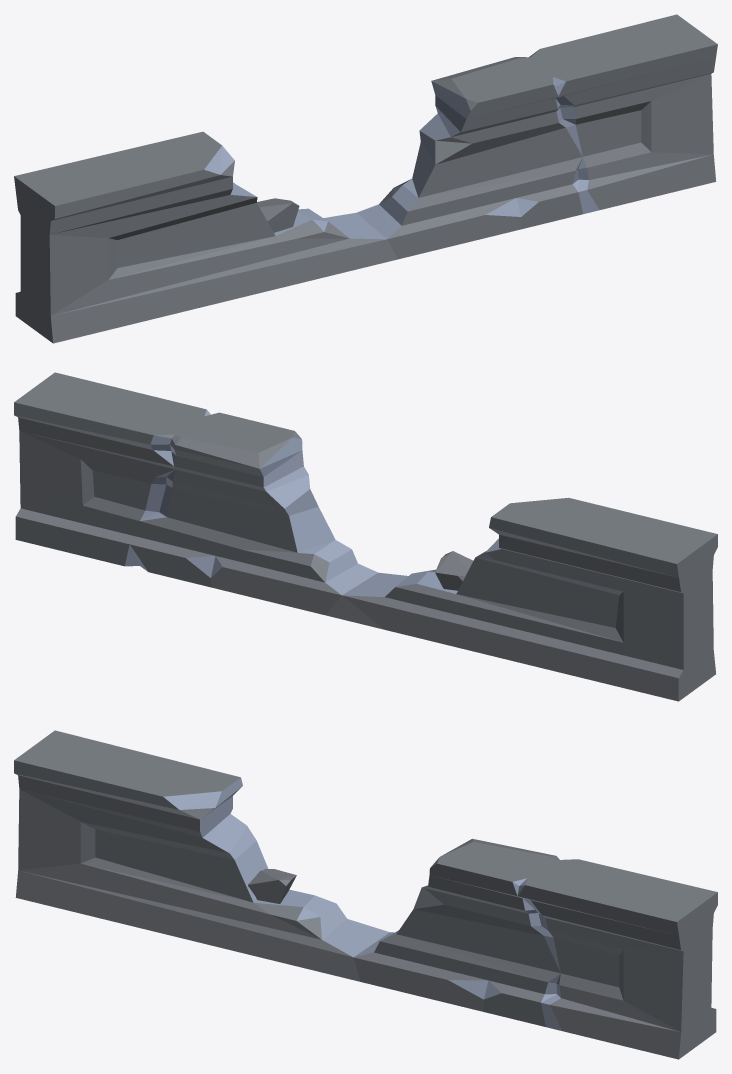
Rendered from Broken_wall_02.FBX.
3 renders of one model, top to bottom at view 1: azimuth 30°, elevation 25°; view 2: azimuth 150°, elevation 25°; view 3: azimuth 330°, elevation 25°, orthographic.
Parts seen in each view (by area): view 1: Broken_wall_02; view 2: Broken_wall_02; view 3: Broken_wall_02.
Part boxes in pixels (x1,y1,x2,y2): Broken_wall_02: [14, 14, 717, 343]; Broken_wall_02: [14, 372, 717, 701]; Broken_wall_02: [14, 730, 717, 1059].
Bounding box in the file's own units: 102 × 20.44 × 10.94.
